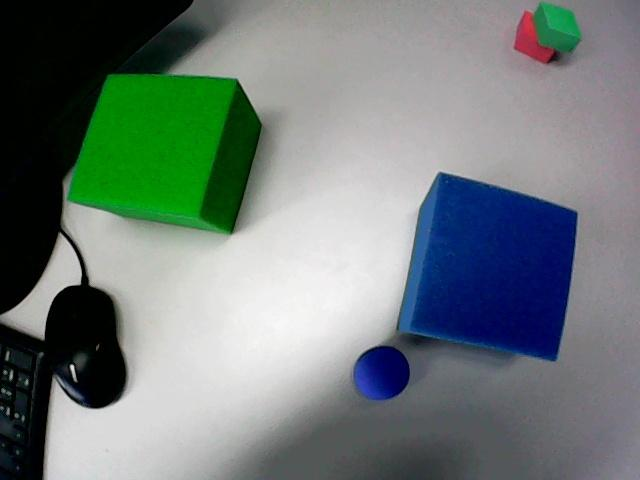blue_block: (398, 173, 576, 359)
red_block: (514, 11, 554, 62)
